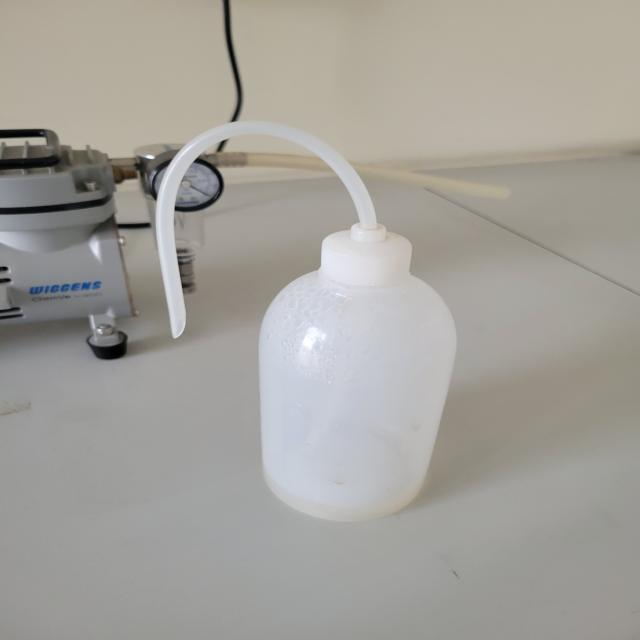Wash_Bottle: (140, 90, 482, 552)
